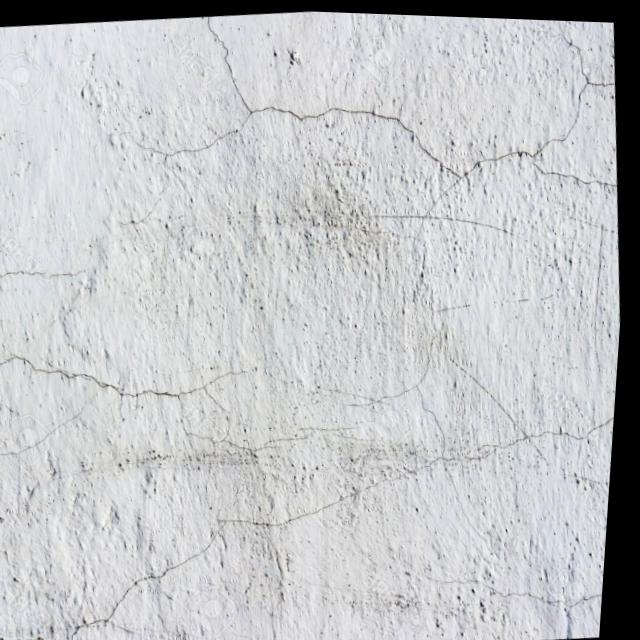Crack: (0, 384, 620, 640), (62, 2, 630, 257), (282, 264, 578, 433), (0, 335, 266, 469), (0, 254, 101, 293)
